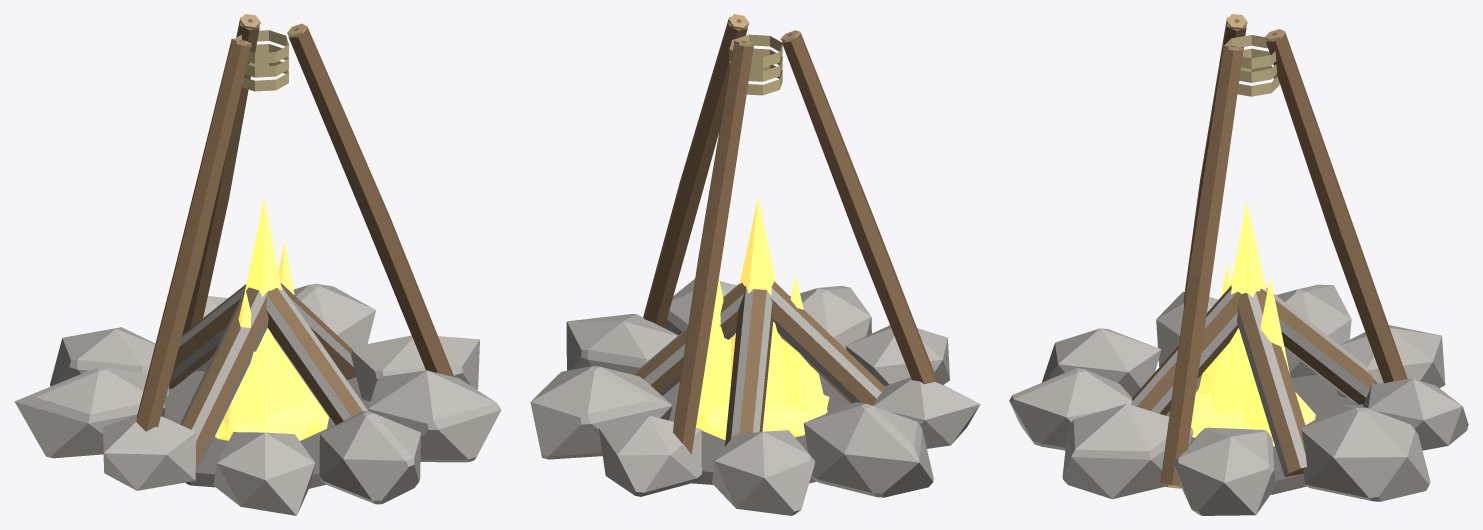
File: hearth.glb
3 renders of one model, left to right at view 1: azimuth 30°, elevation 25°; view 2: azimuth 150°, elevation 25°; view 3: azimuth 270°, elevation 25°, orthographic.
Visible parts, largest first — view 1: hearth; view 2: hearth; view 3: hearth.
Boxes of the visible parts, x1,y1,x2,y2 form: hearth: [14, 14, 501, 515]; hearth: [530, 14, 980, 515]; hearth: [1009, 14, 1468, 515].
Bounding box in the file's own units: 0.9956 × 0.9336 × 0.967.
